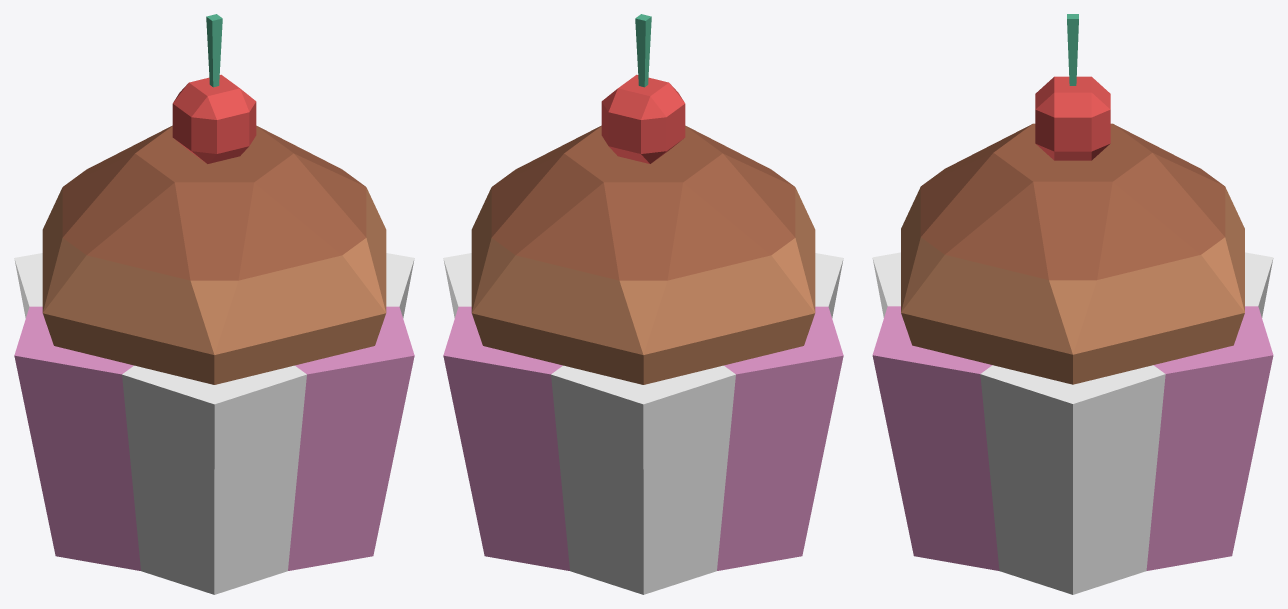
The model's file is cupcake.obj.
3 views of the same model, side by side, from view 1: azimuth 30°, elevation 25°; view 2: azimuth 150°, elevation 25°; view 3: azimuth 270°, elevation 25° (orthographic).
Parts seen in each view (by area): view 1: cupcake, cake, cherry; view 2: cupcake, cake, cherry; view 3: cupcake, cake, cherry.
Boxes of the visible parts, <box> form: cupcake: <box>14,253,414,594</box>; cake: <box>42,125,386,384</box>; cherry: <box>172,14,256,163</box>; cupcake: <box>443,253,843,594</box>; cake: <box>471,125,815,384</box>; cherry: <box>601,14,685,163</box>; cupcake: <box>872,252,1273,594</box>; cake: <box>901,123,1244,384</box>; cherry: <box>1035,14,1110,160</box>.
Size of the model in its own units: 0.3552 by 0.4238 by 0.3076.
